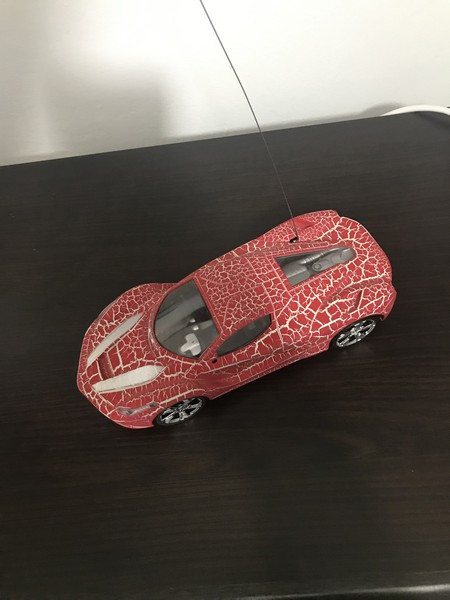RC: (76, 206, 401, 432)
